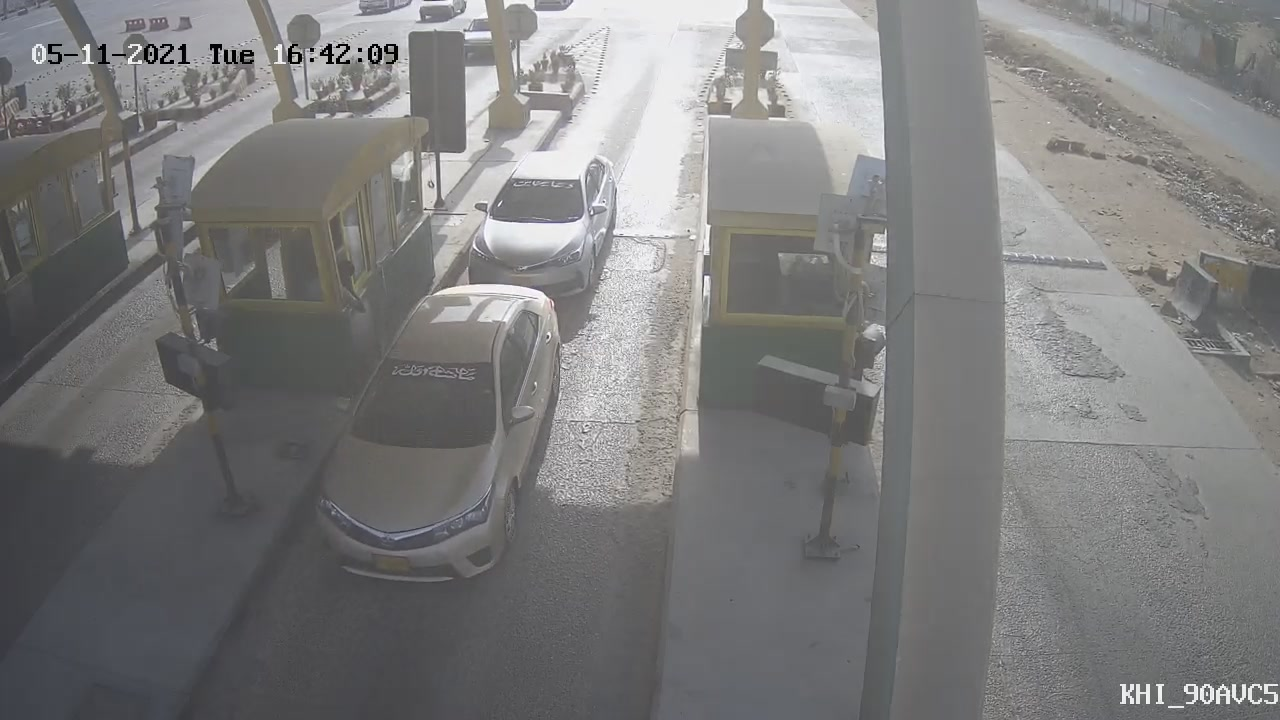F1: (290, 269, 590, 608), (443, 136, 638, 320)
